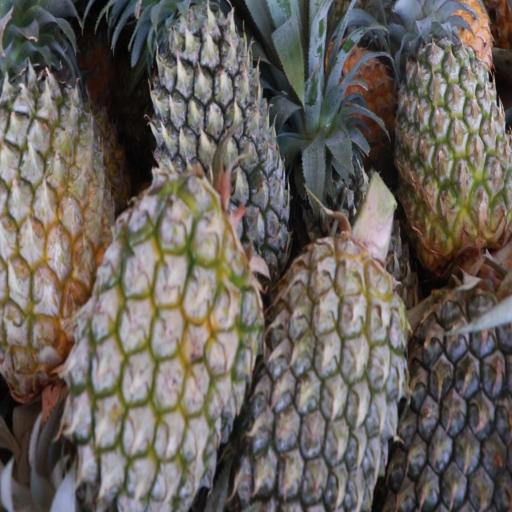------------------------------: (67, 186, 250, 509), (0, 0, 121, 374), (397, 13, 509, 254)
